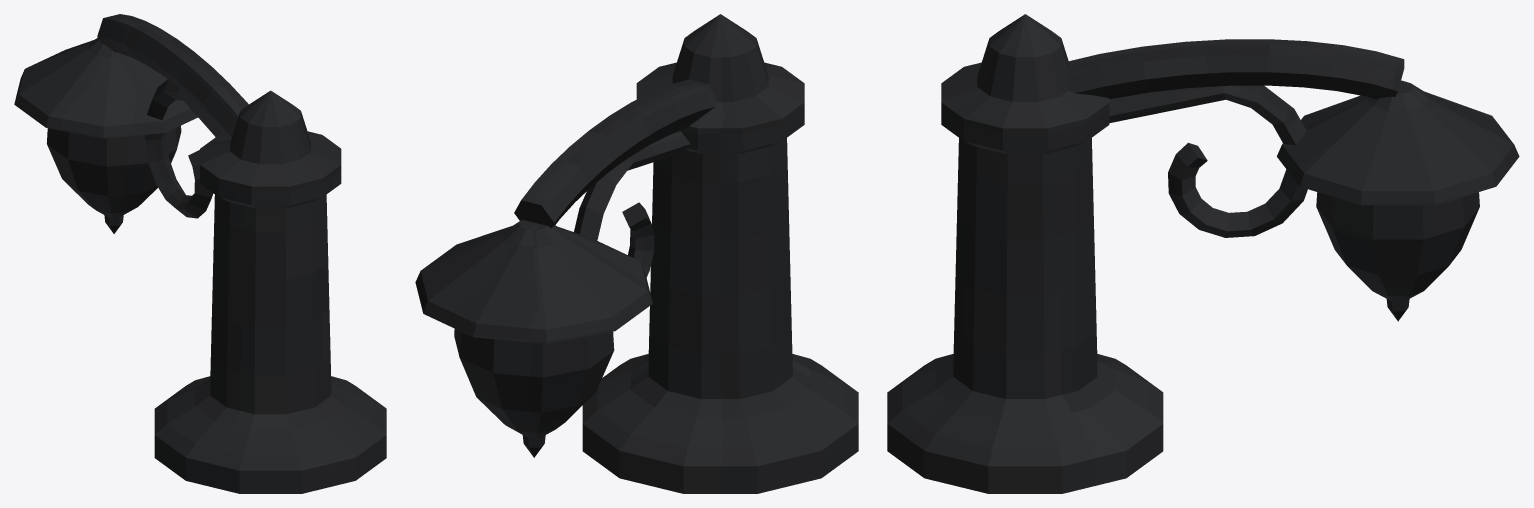
Rendered from decolight_reprotypef.obj.
3 renders of one model, left to right at view 1: azimuth 30°, elevation 25°; view 2: azimuth 150°, elevation 25°; view 3: azimuth 270°, elevation 25°, orthographic. The views are drawn at different scales.
Parts seen in each view (by area): view 1: decolight_reprotypef; view 2: decolight_reprotypef; view 3: decolight_reprotypef.
Boxes of the visible parts, x1,y1,x2,y2 form: decolight_reprotypef: [14, 14, 386, 493]; decolight_reprotypef: [415, 14, 858, 493]; decolight_reprotypef: [887, 14, 1519, 493].
Size of the model in its own units: 0.5554 by 0.9363 by 1.27.
